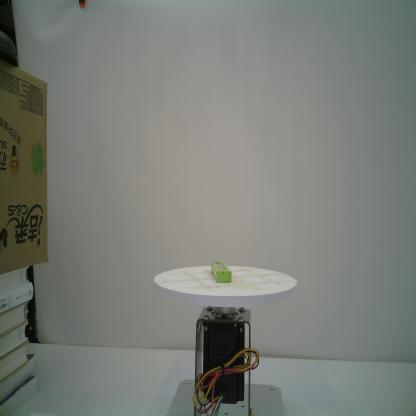Gum: (210, 260, 233, 284)
